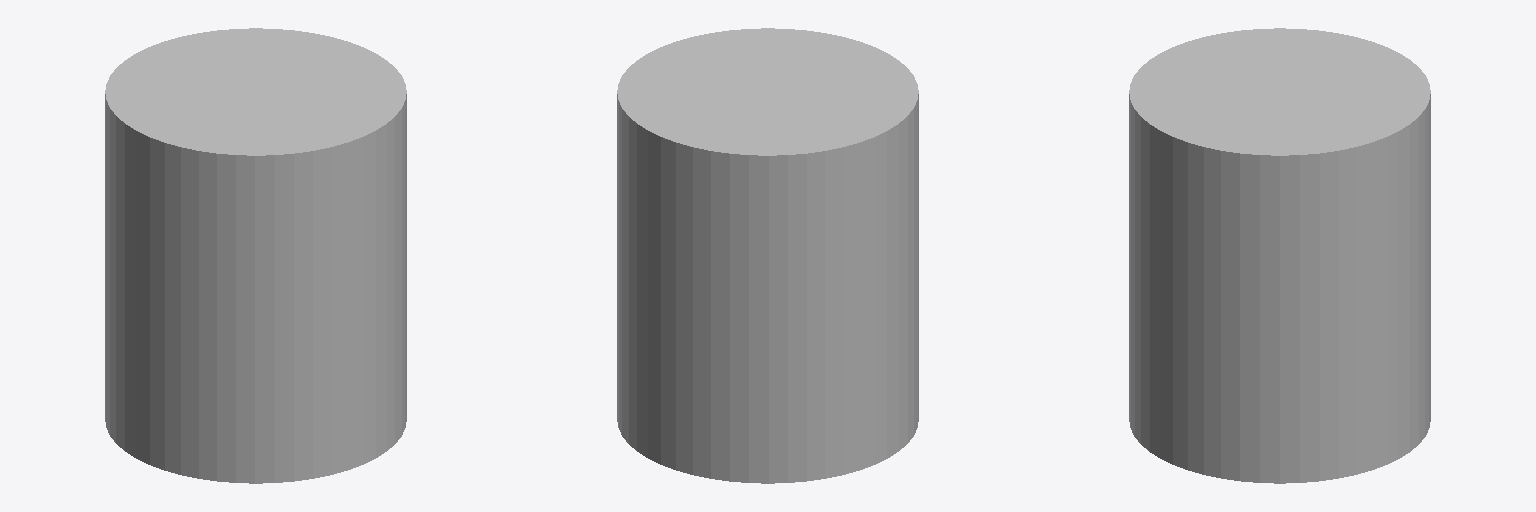
Rendered from v02-left.obj.
3 renders of one model, left to right at view 1: azimuth 30°, elevation 25°; view 2: azimuth 150°, elevation 25°; view 3: azimuth 270°, elevation 25°, orthographic.
Visible parts, largest first — view 1: BezierCircle; view 2: BezierCircle; view 3: BezierCircle.
Boxes of the visible parts, x1,y1,x2,y2 form: BezierCircle: [105, 28, 406, 483]; BezierCircle: [617, 28, 918, 483]; BezierCircle: [1129, 28, 1430, 483].
Bounding box in the file's own units: 0.3131 × 0.3757 × 0.3131.